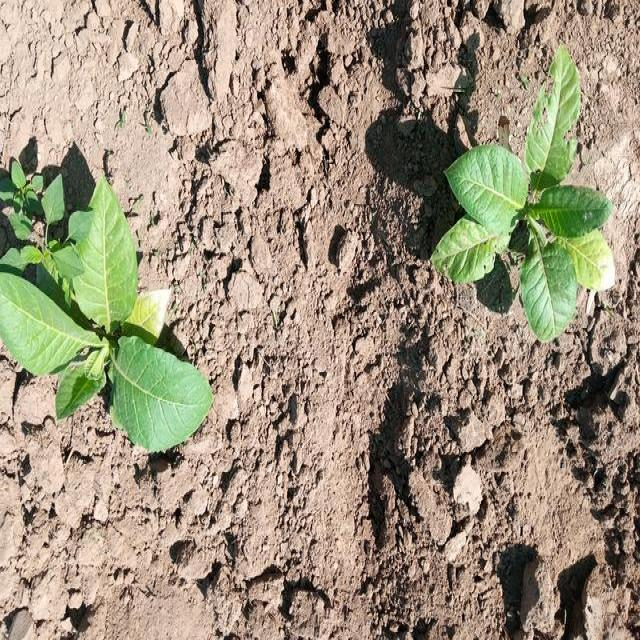crop: (442, 45, 620, 346), (2, 186, 207, 446)
